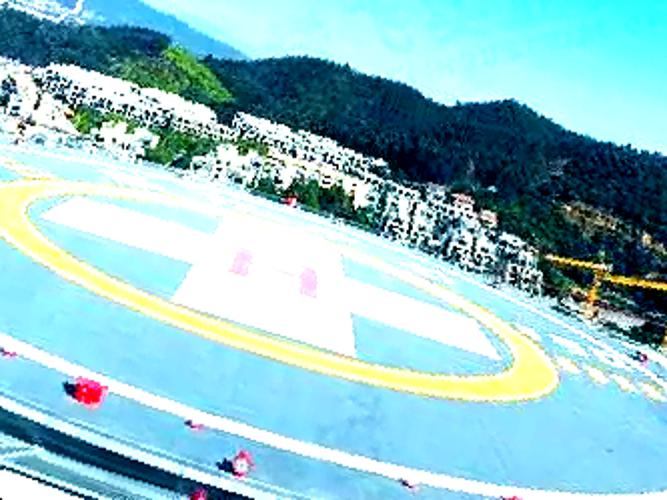Apron: (1, 120, 585, 411)
